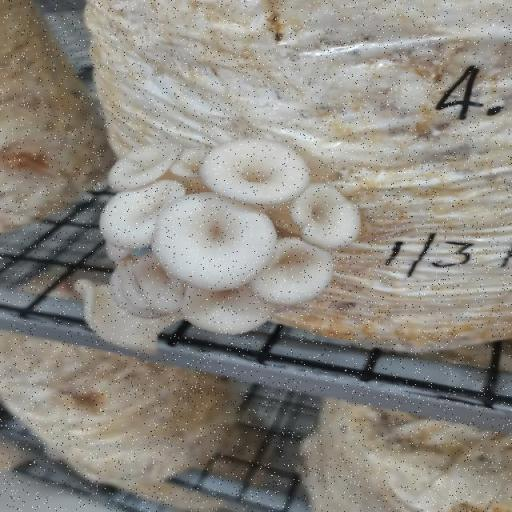White Oyster Mushroom: (88, 131, 363, 323)
